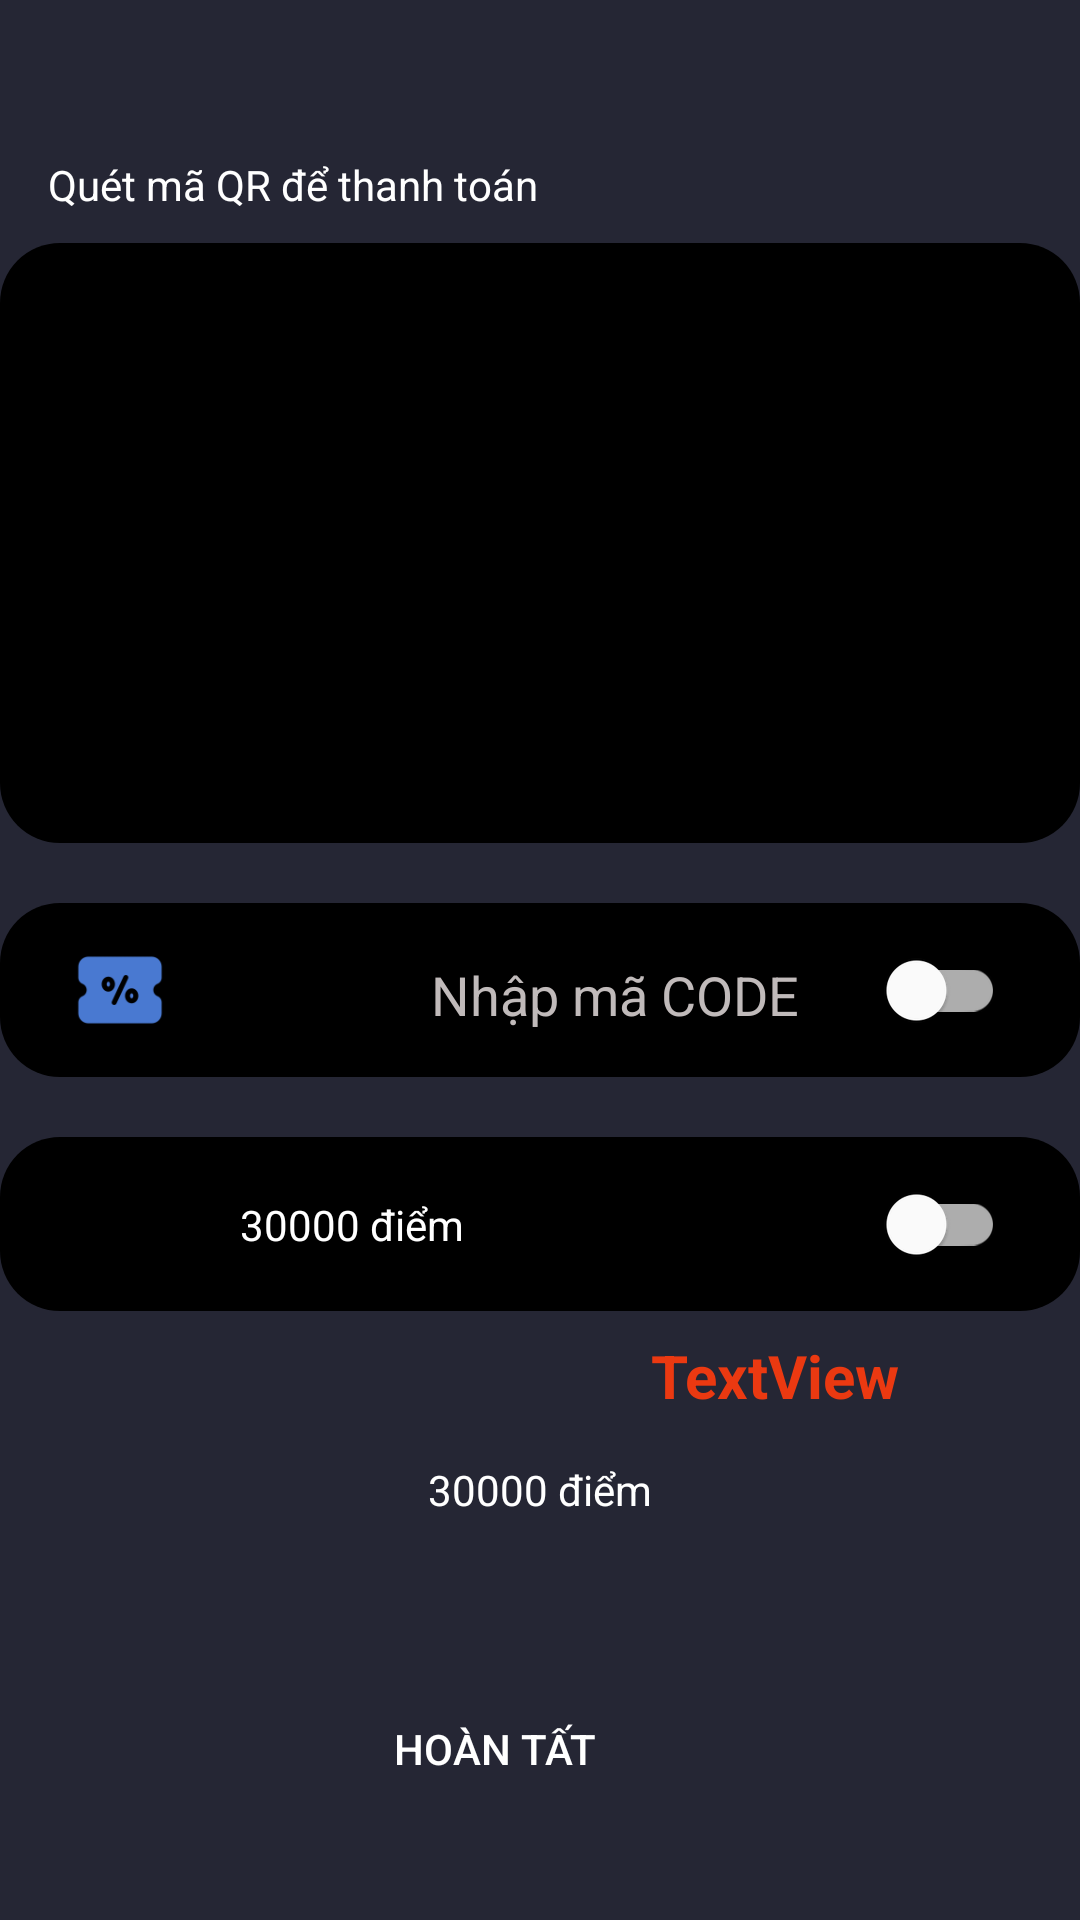

Icons on this 1080*1920 Android screen, each with its box as (x1, y1, x2, y2):
coupon: (78, 956, 162, 1024)
